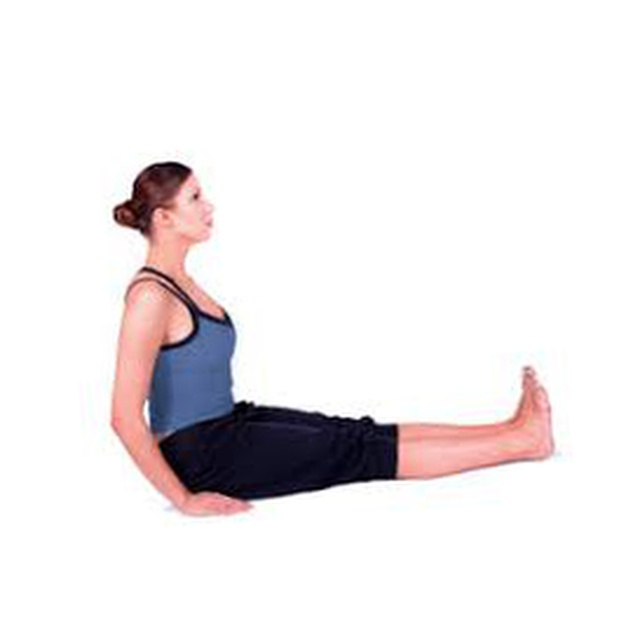Staff_Pose: (109, 162, 559, 518)
